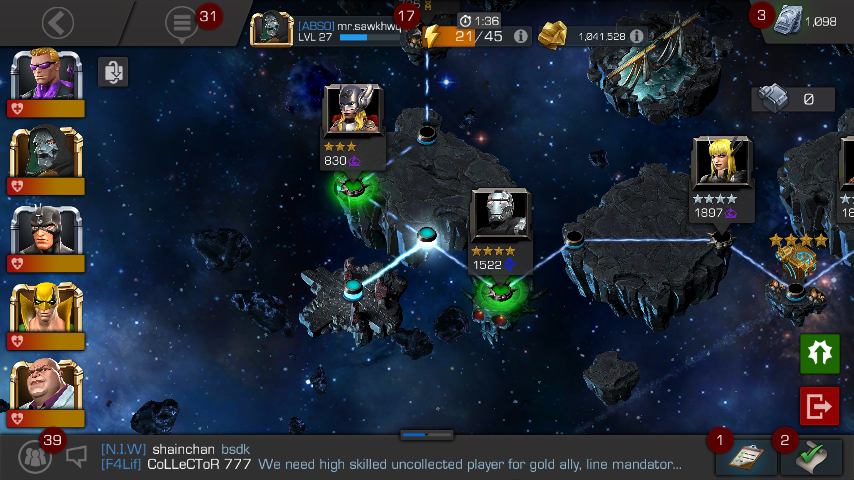green: (487, 282, 514, 302), (339, 178, 366, 197)
